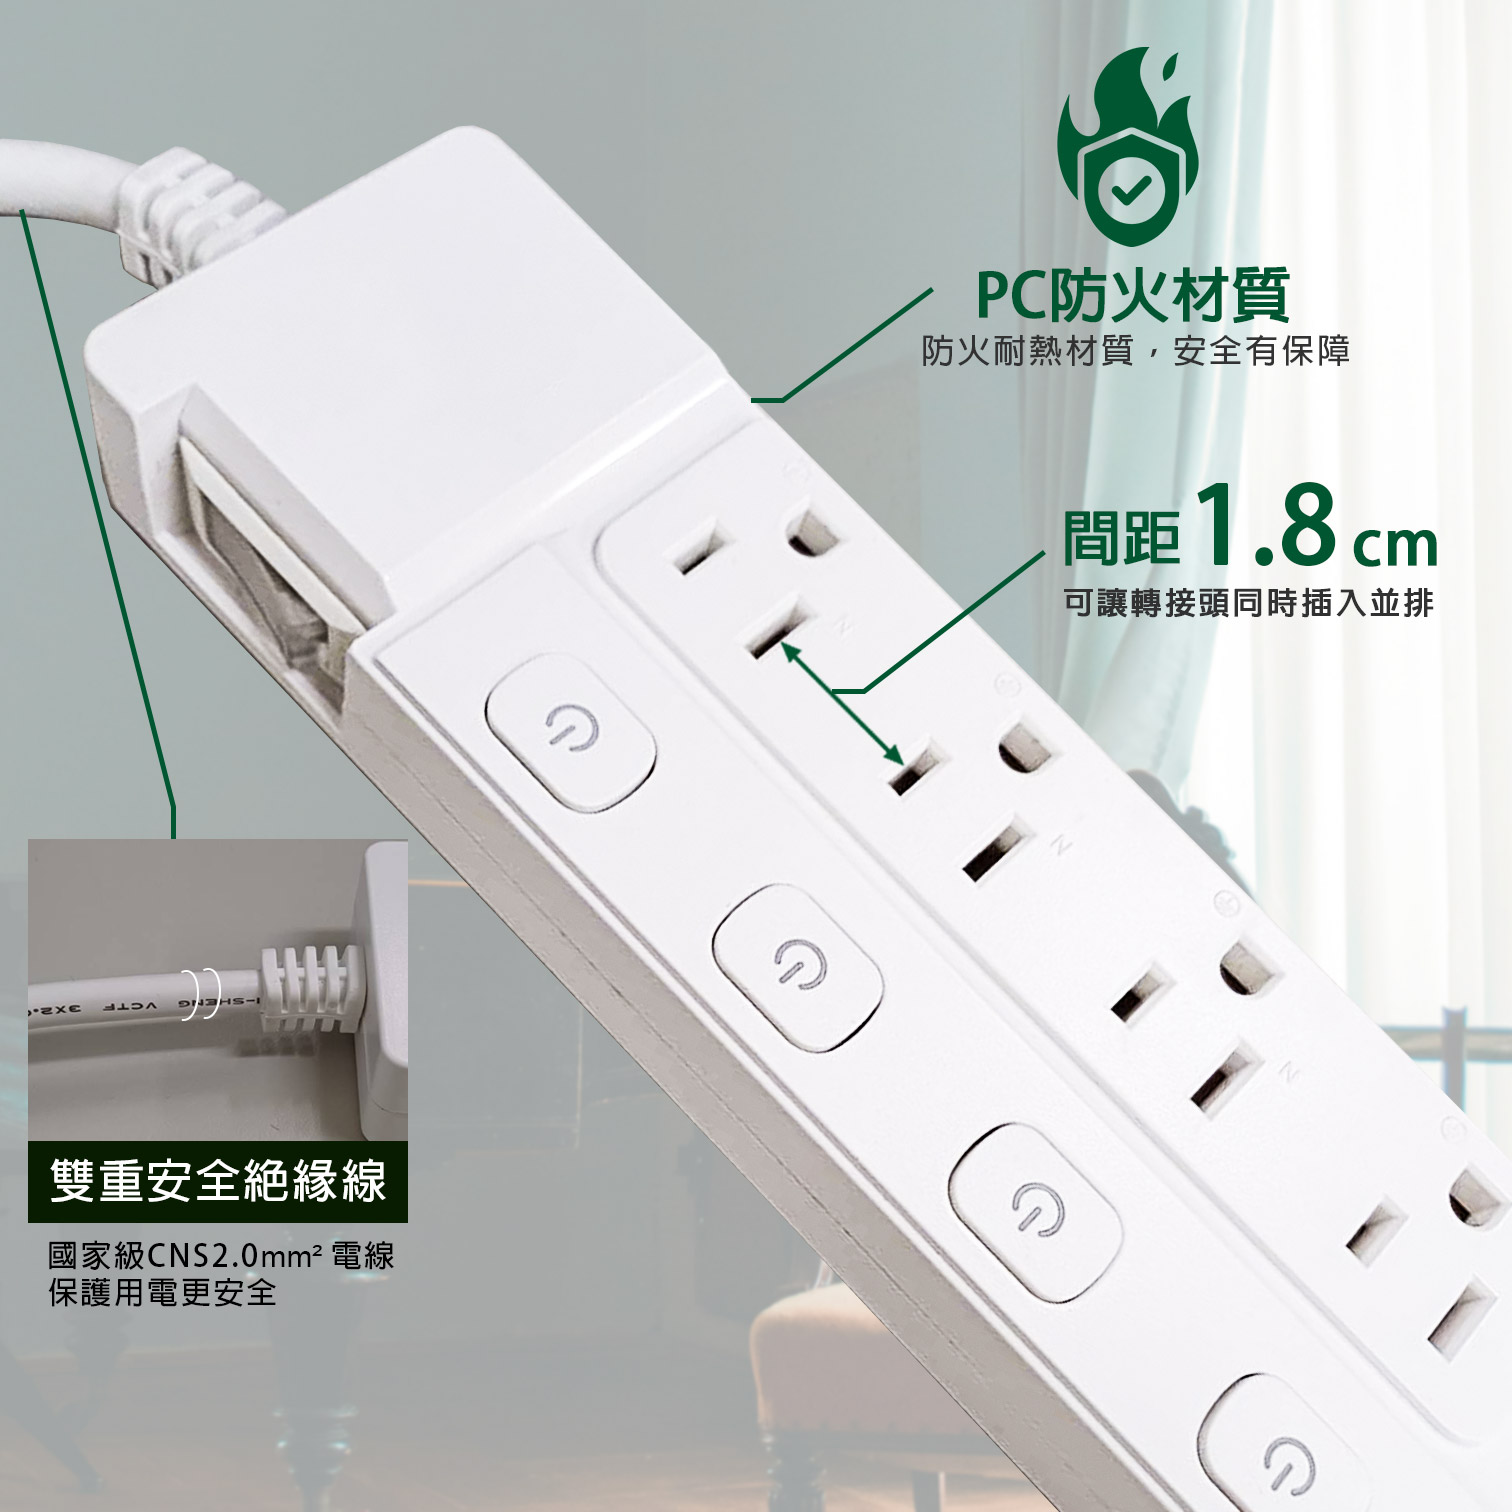socket: (80, 125, 1512, 1512)
